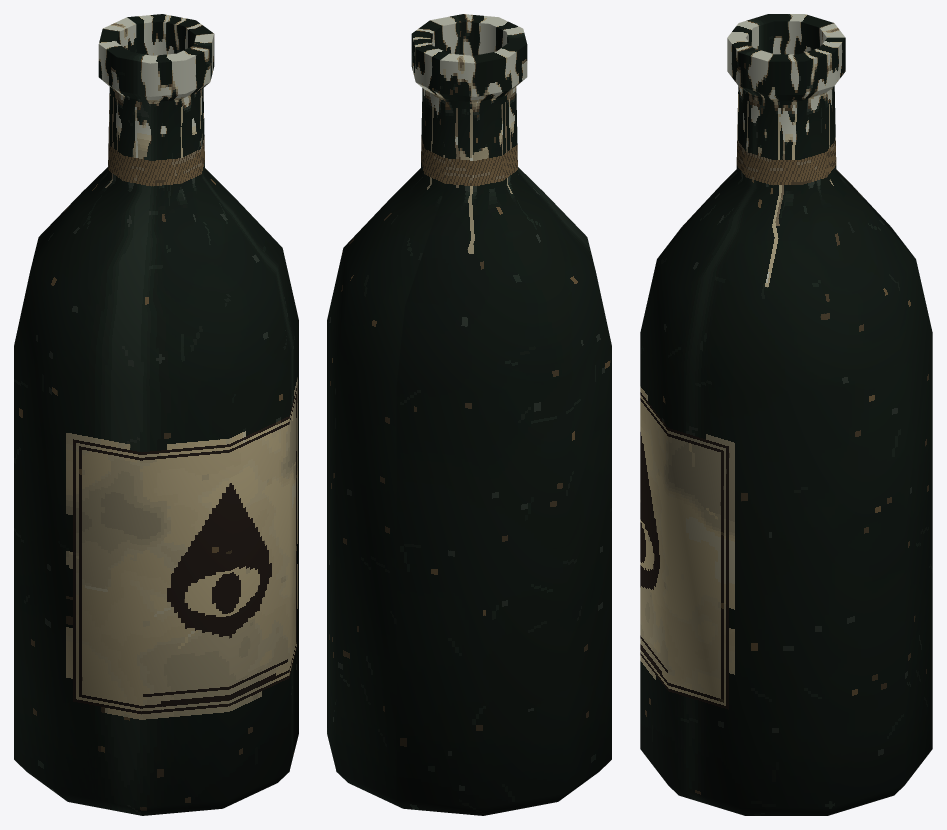
File: HB_Bottle_Apothecary.glb
The picture shows the model from 3 angles, left to right: view 1: azimuth 30°, elevation 25°; view 2: azimuth 150°, elevation 25°; view 3: azimuth 270°, elevation 25°; orthographic projection.
Parts seen in each view (by area): view 1: HB_Bottle_Apothecary; view 2: HB_Bottle_Apothecary; view 3: HB_Bottle_Apothecary.
Part boxes in pixels (x1=…): HB_Bottle_Apothecary: x1=14, y1=14, x2=298, y2=815; HB_Bottle_Apothecary: x1=327, y1=14, x2=611, y2=815; HB_Bottle_Apothecary: x1=640, y1=14, x2=932, y2=815.
Size of the model in its own units: 0.0751 by 0.216 by 0.079.
Materials: 1 (1 with a texture image).
